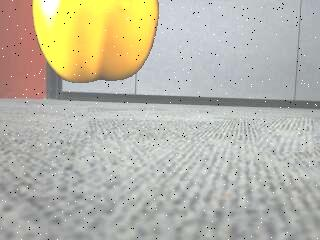Capsicum: (32, 1, 162, 85)
